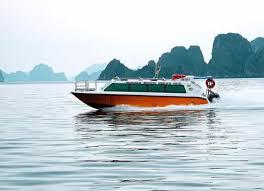Ship: (73, 75, 220, 110)
